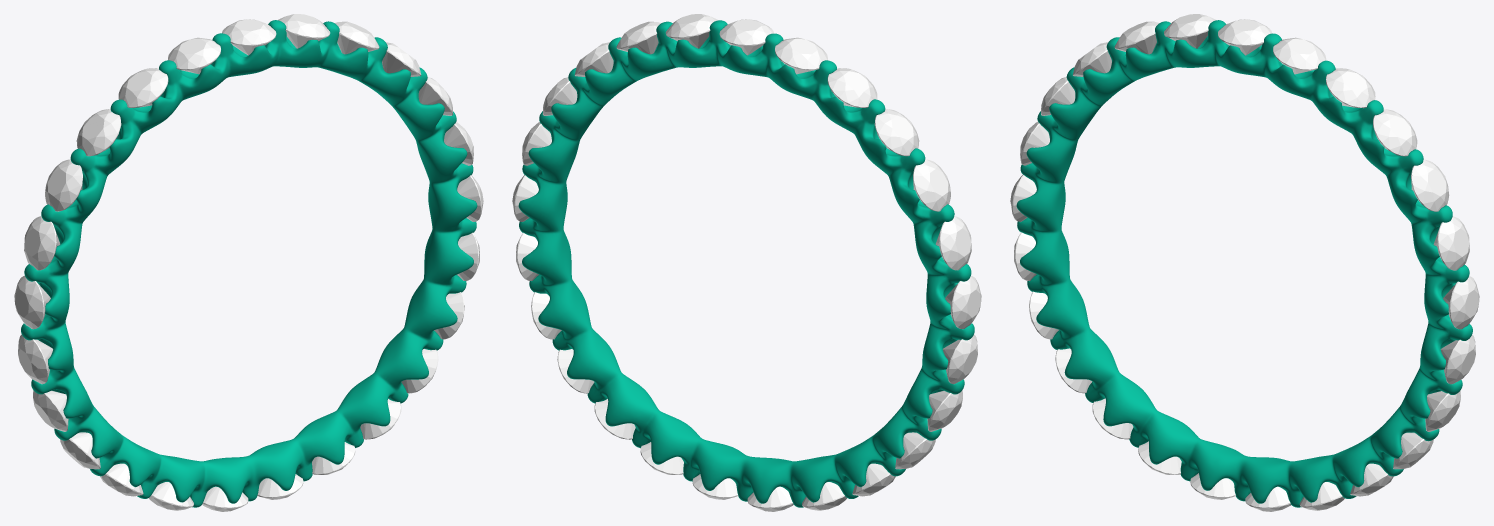
File: BE2DR100E_RENDER.glb
3 views of the same model, side by side, from view 1: azimuth 30°, elevation 25°; view 2: azimuth 150°, elevation 25°; view 3: azimuth 330°, elevation 25° (orthographic).
Visible parts, largest first — view 1: Metal03, Diamond_Round_Gem_BD.003, Diamond_Round_Gem_BD.004, Diamond_Round_Gem_BD.002, Diamond_Round_Gem_BD.005, Diamond_Round_Gem_BD.001, Diamond_Round_Gem_BD.006, Diamond_Round_Gem_BD, Diamond_Round_Gem_BD.007, Diamond_Round_Gem_BD.024, Diamond_Round_Gem_BD.008, Diamond_Round_Gem_BD.023 (+14 smaller); view 2: Metal03, Diamond_Round_Gem_BD.003, Diamond_Round_Gem_BD.004, Diamond_Round_Gem_BD.002, Diamond_Round_Gem_BD.005, Diamond_Round_Gem_BD.001, Diamond_Round_Gem_BD.006, Diamond_Round_Gem_BD, Diamond_Round_Gem_BD.007, Diamond_Round_Gem_BD.024, Diamond_Round_Gem_BD.008, Diamond_Round_Gem_BD.023 (+14 smaller); view 3: Metal03, Diamond_Round_Gem_BD.022, Diamond_Round_Gem_BD.021, Diamond_Round_Gem_BD.023, Diamond_Round_Gem_BD.020, Diamond_Round_Gem_BD.024, Diamond_Round_Gem_BD.019, Diamond_Round_Gem_BD, Diamond_Round_Gem_BD.018, Diamond_Round_Gem_BD.001, Diamond_Round_Gem_BD.017, Diamond_Round_Gem_BD.002 (+14 smaller).
Boxes of the visible parts, x1=… form: Metal03: x1=21, y1=20, x2=477, y2=507; Diamond_Round_Gem_BD.003: x1=76, y1=109, x2=121, y2=156; Diamond_Round_Gem_BD.004: x1=45, y1=159, x2=82, y2=211; Diamond_Round_Gem_BD.002: x1=118, y1=68, x2=168, y2=107; Diamond_Round_Gem_BD.005: x1=24, y1=216, x2=60, y2=270; Diamond_Round_Gem_BD.001: x1=168, y1=37, x2=220, y2=74; Diamond_Round_Gem_BD.006: x1=14, y1=275, x2=50, y2=329; Diamond_Round_Gem_BD: x1=222, y1=19, x2=276, y2=55; Diamond_Round_Gem_BD.007: x1=18, y1=334, x2=52, y2=384; Diamond_Round_Gem_BD.024: x1=278, y1=14, x2=330, y2=48; Diamond_Round_Gem_BD.008: x1=33, y1=390, x2=68, y2=431; Diamond_Round_Gem_BD.023: x1=334, y1=21, x2=379, y2=54; Metal03: x1=518, y1=20, x2=974, y2=507; Diamond_Round_Gem_BD.003: x1=874, y1=109, x2=919, y2=156; Diamond_Round_Gem_BD.004: x1=913, y1=159, x2=950, y2=211; Diamond_Round_Gem_BD.002: x1=827, y1=68, x2=877, y2=107; Diamond_Round_Gem_BD.005: x1=935, y1=216, x2=971, y2=270; Diamond_Round_Gem_BD.001: x1=775, y1=37, x2=827, y2=74; Diamond_Round_Gem_BD.006: x1=945, y1=275, x2=981, y2=329; Diamond_Round_Gem_BD: x1=719, y1=19, x2=773, y2=55; Diamond_Round_Gem_BD.007: x1=943, y1=334, x2=977, y2=384; Diamond_Round_Gem_BD.024: x1=665, y1=14, x2=718, y2=48; Diamond_Round_Gem_BD.008: x1=927, y1=390, x2=962, y2=431; Diamond_Round_Gem_BD.023: x1=616, y1=21, x2=661, y2=54; Metal03: x1=1016, y1=20, x2=1472, y2=507; Diamond_Round_Gem_BD.022: x1=1373, y1=109, x2=1417, y2=156; Diamond_Round_Gem_BD.021: x1=1411, y1=159, x2=1449, y2=211; Diamond_Round_Gem_BD.023: x1=1326, y1=68, x2=1375, y2=108; Diamond_Round_Gem_BD.020: x1=1433, y1=216, x2=1469, y2=270; Diamond_Round_Gem_BD.024: x1=1273, y1=37, x2=1326, y2=74; Diamond_Round_Gem_BD.019: x1=1443, y1=276, x2=1479, y2=329; Diamond_Round_Gem_BD: x1=1218, y1=19, x2=1272, y2=55; Diamond_Round_Gem_BD.018: x1=1440, y1=335, x2=1475, y2=384; Diamond_Round_Gem_BD.001: x1=1164, y1=14, x2=1215, y2=48; Diamond_Round_Gem_BD.017: x1=1425, y1=390, x2=1460, y2=431; Diamond_Round_Gem_BD.002: x1=1114, y1=21, x2=1159, y2=54.
Bounding box in the file's own units: 20.33 × 20.29 × 2.1.
